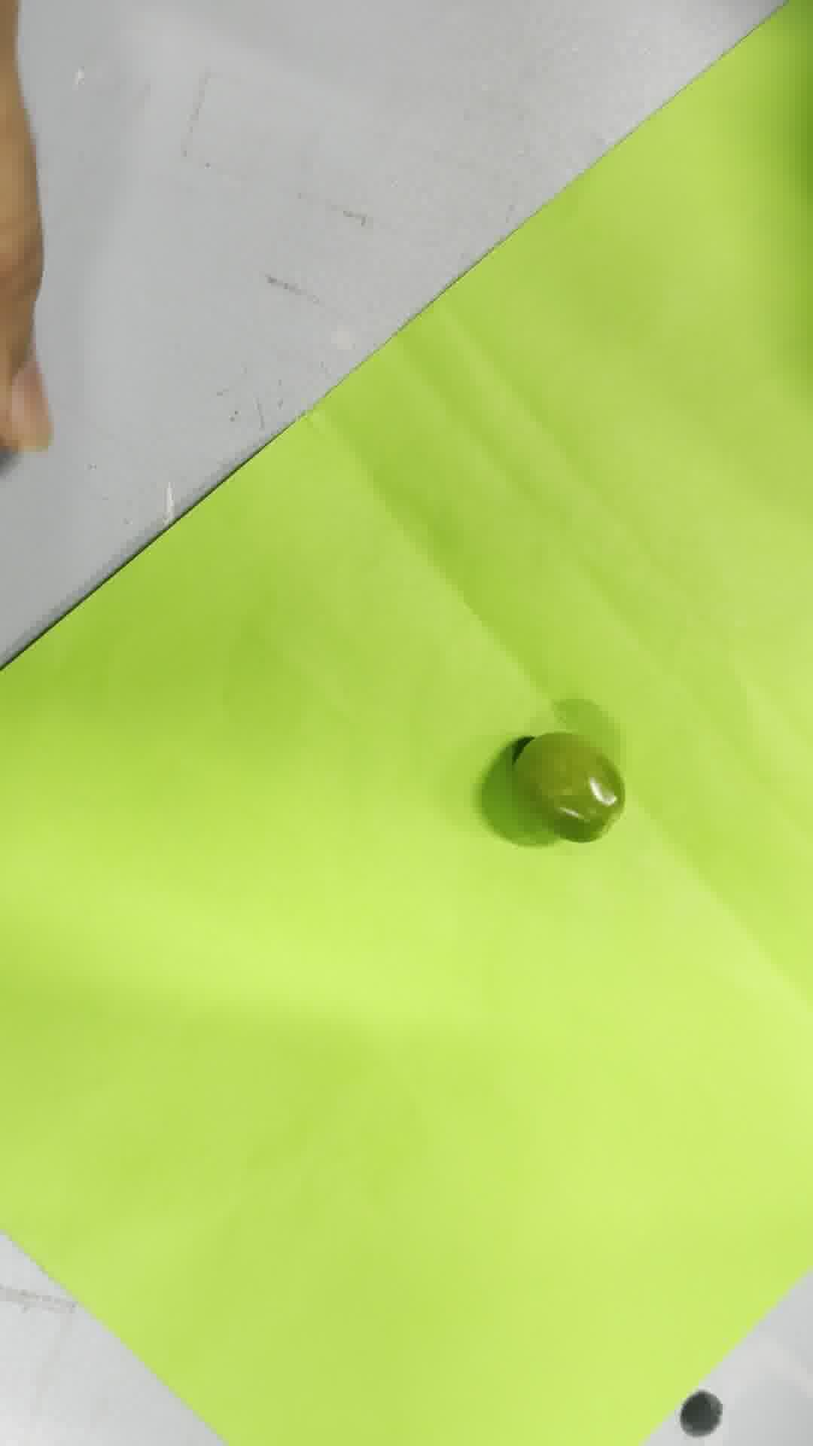green_cherry_tomato: (514, 732, 625, 841)
